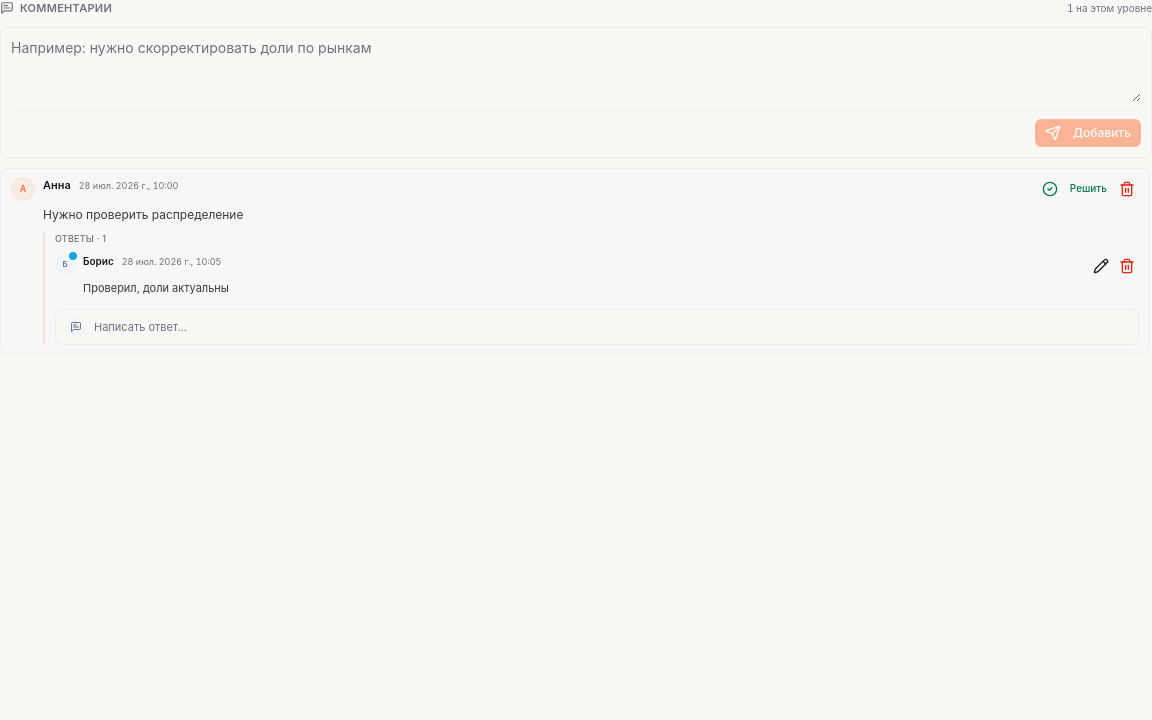
InitiativeAllocationComments › lets a super admin delete a foreign comment without editing it
This screenshot has width=1152, height=720.
Later steps or results of the test are not shown.
Click the button named "Удалить комментарий" at (1127, 188), box [1115, 176, 1139, 200]
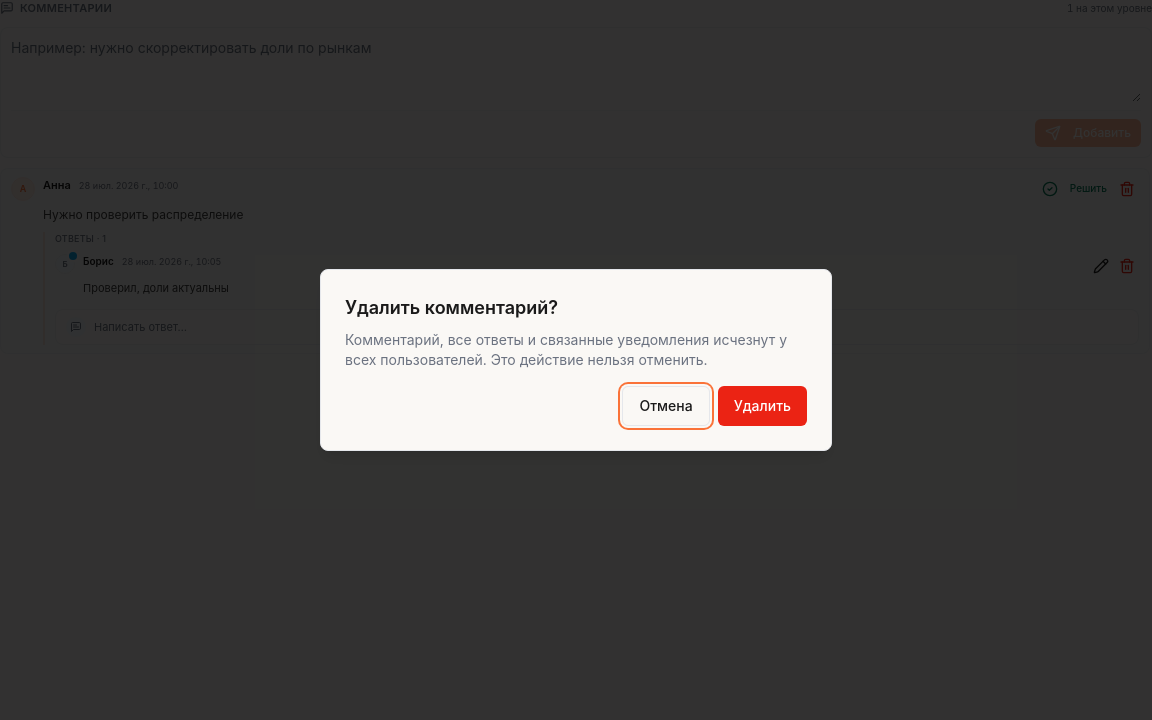
Expected: the text "связанные уведомления исчезнут у всех пользователей" is shown, [345, 331, 787, 368]
